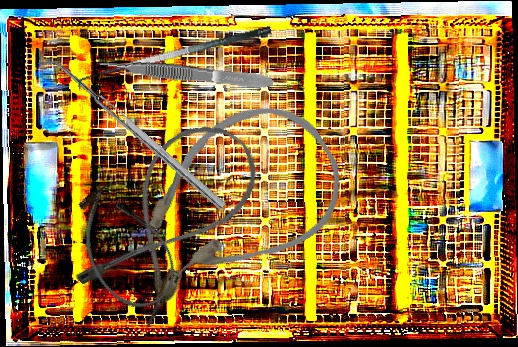Cannula: (114, 81, 363, 312), (69, 105, 274, 333), (58, 170, 191, 324)
Spatula Surgical: (38, 50, 226, 217), (74, 23, 276, 97)
Tissue Forceps: (97, 53, 275, 92)
